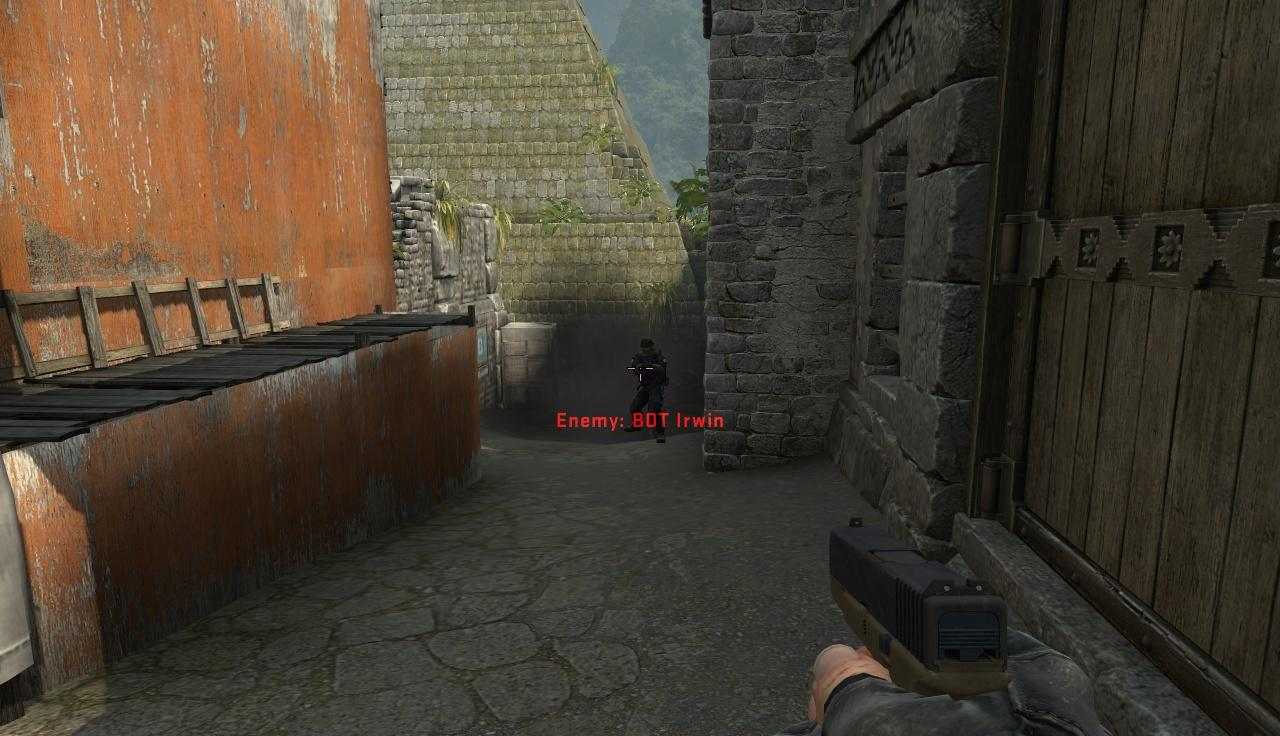ct: (631, 338, 669, 447)
cthead: (640, 338, 655, 358)
pistol: (820, 520, 1027, 736)
